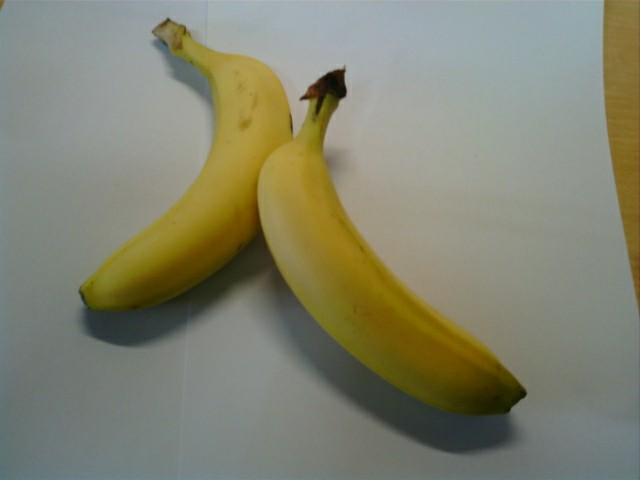fresh_banana: (259, 123, 522, 423), (76, 53, 289, 319)
